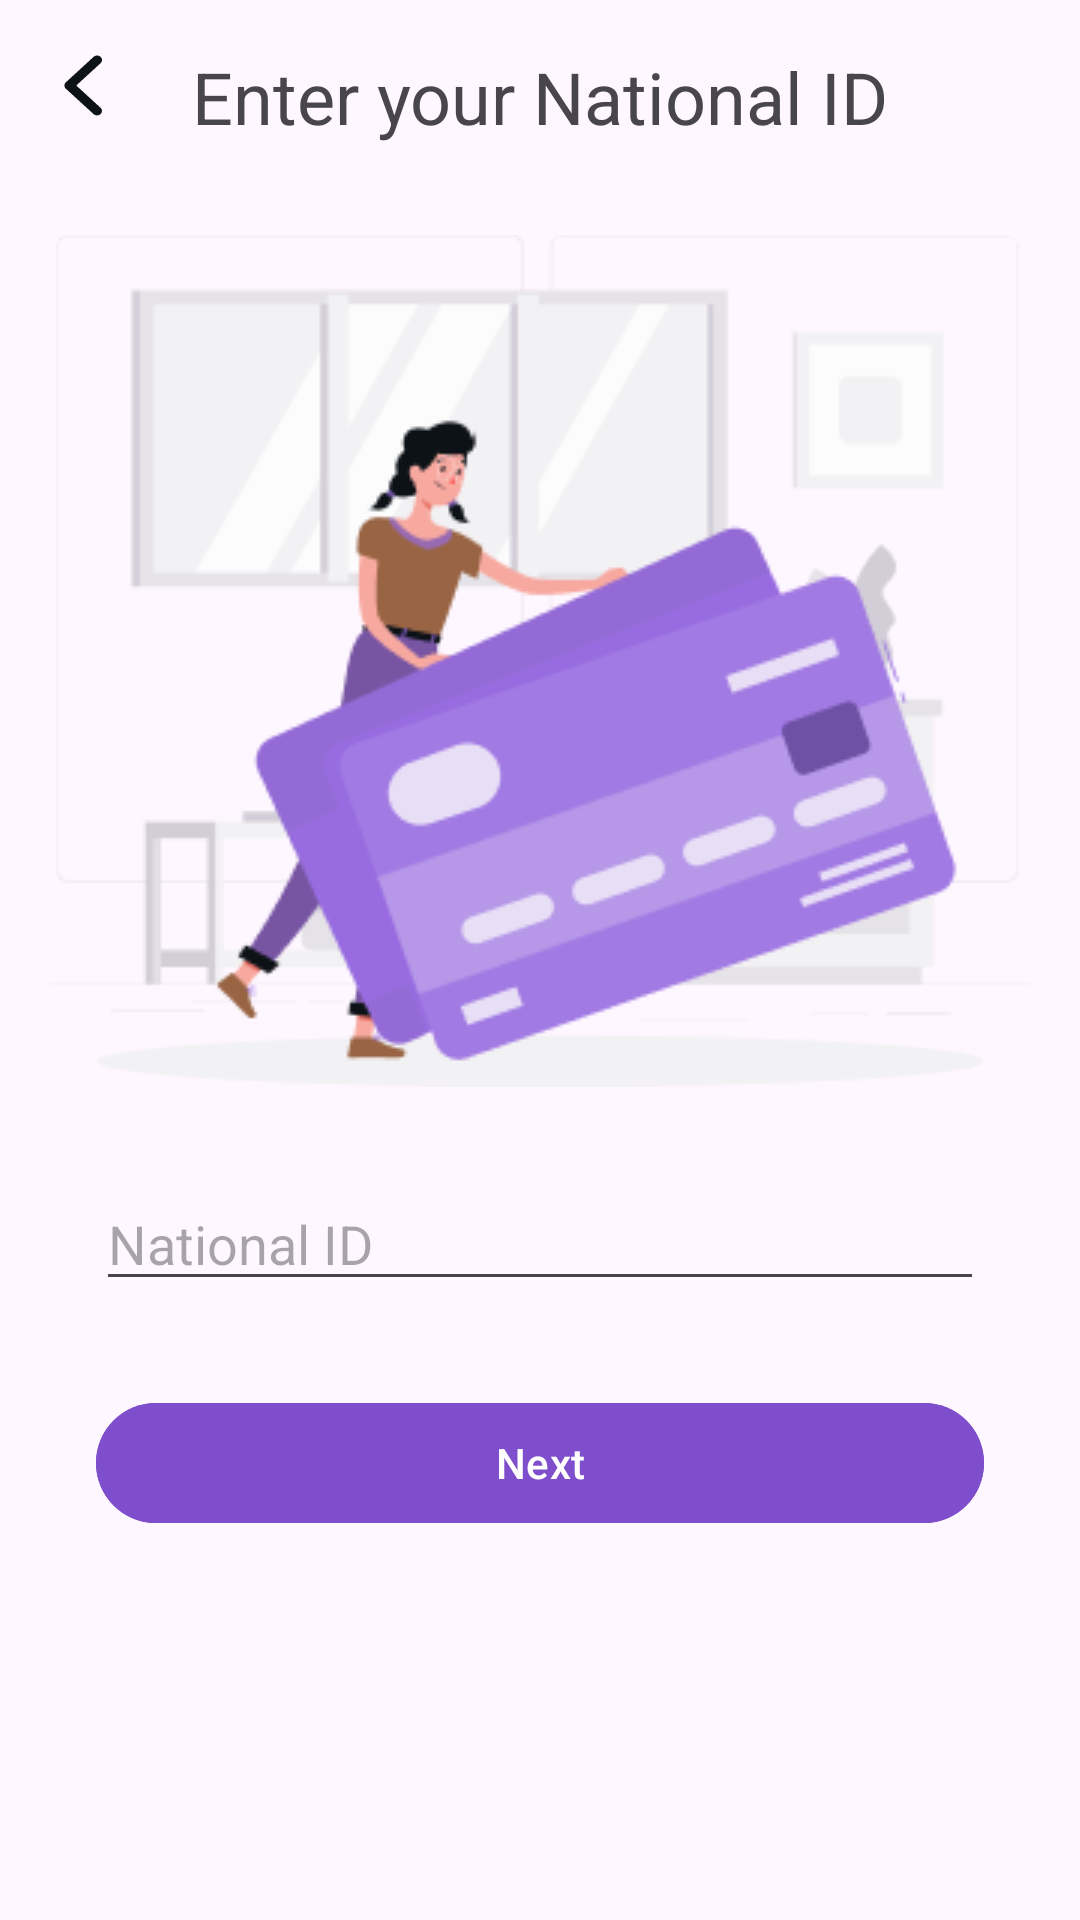

Locate icon controls on the screen. Image size 1080px×1920px, boxes as (x1,y1,x2,y2).
back: (64,55,102,116)
